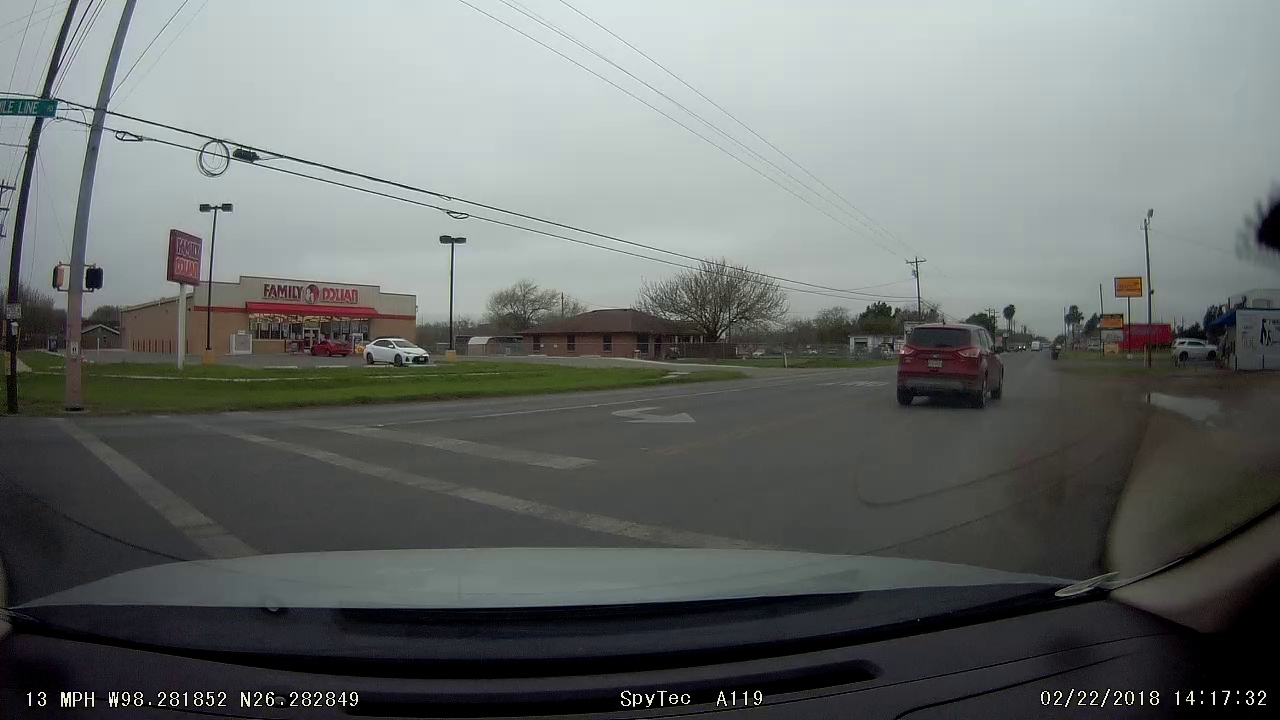blurredLine: (372, 480, 645, 537)
